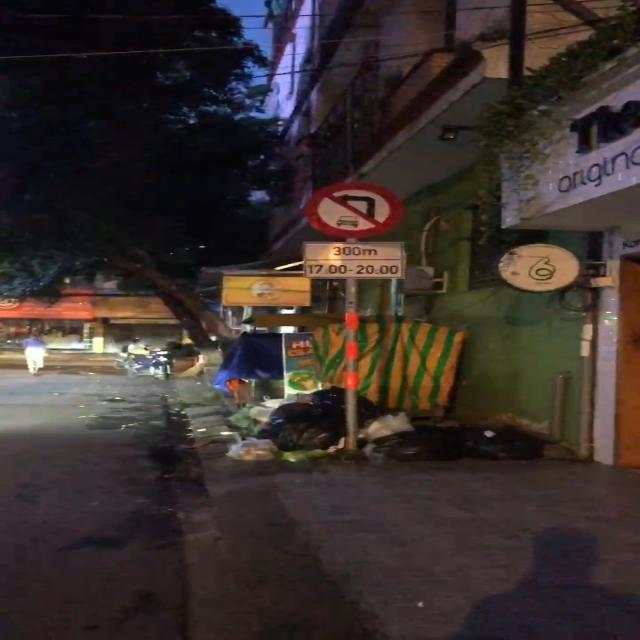Bien bao cam xe o to re trai: (300, 180, 408, 240)
